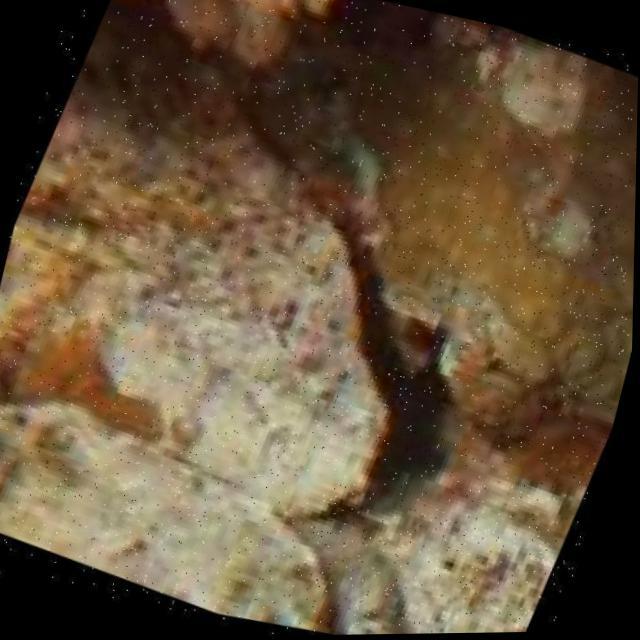Healthy Coral: (279, 1, 640, 523)
